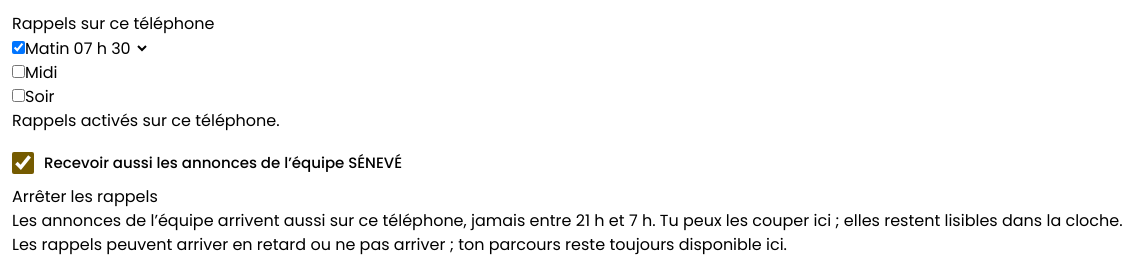
Test case: Rappels sur ce téléphone › décocher le dernier moment arrête les rappels au serveur et garde les cases vides
The width and height of the screenshot is (1139, 272).
Later steps or results of the test are not shown.
Click the checkbox labelled "Matin": (18, 48) [12,41,25,54]
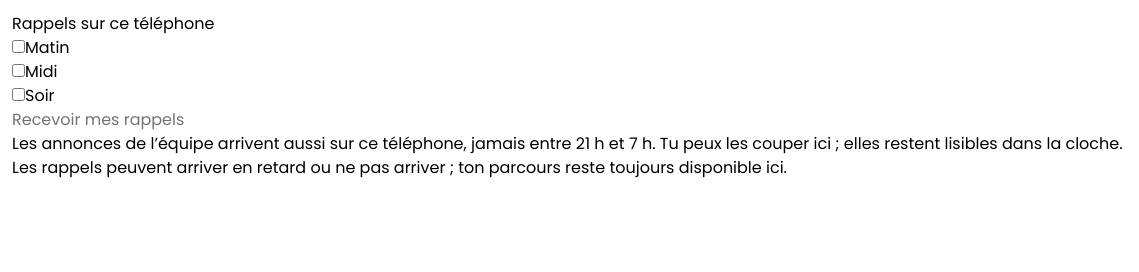
Result: the checkbox labelled "Matin" is not checked at [12,40,25,53]
Result: the text "Rappels activés sur ce téléphone." is gone
Result: the button "Recevoir mes rappels" is disabled at [12,108,184,132]
